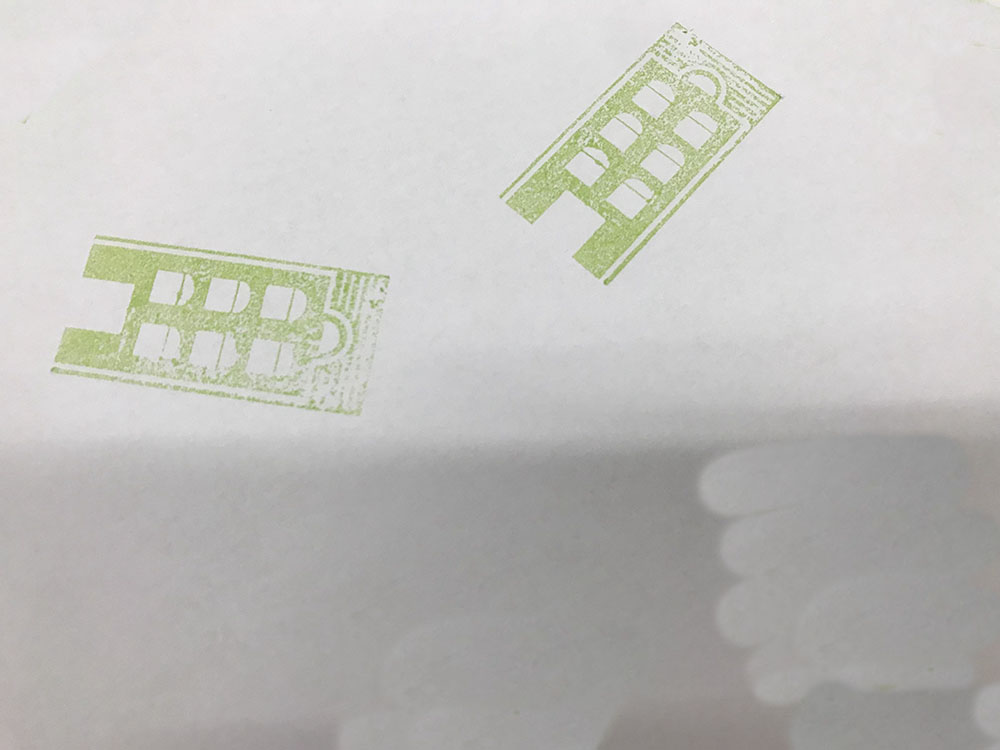build: (484, 12, 794, 314), (24, 208, 414, 444)
